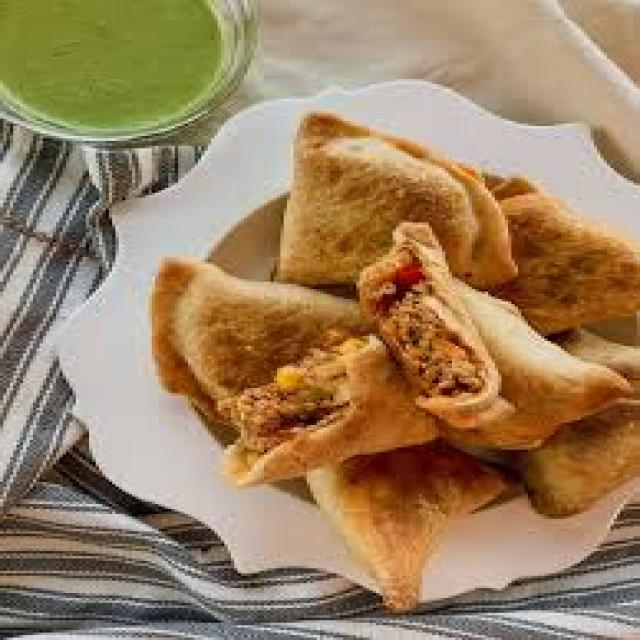SAMOSA: (278, 109, 517, 287), (156, 259, 386, 429), (357, 228, 506, 426), (336, 452, 515, 612)
